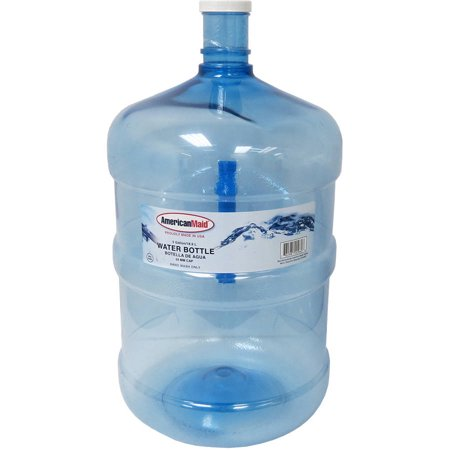Rec_Plastic: (96, 1, 348, 439)
